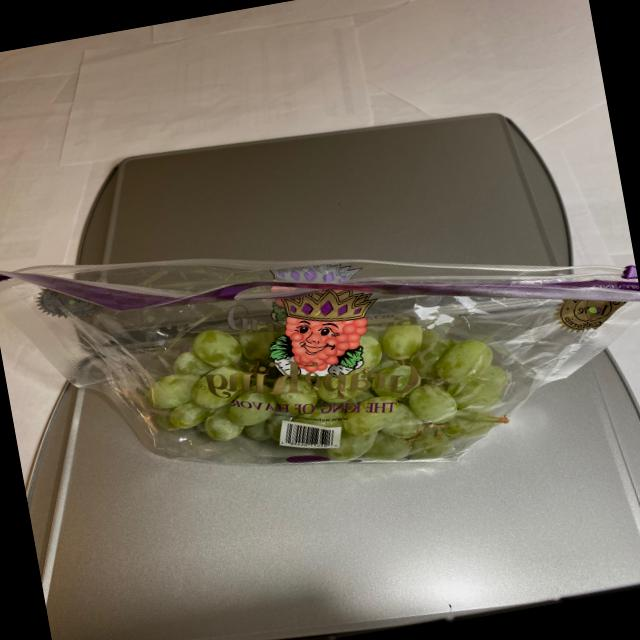grapes: (99, 270, 532, 514)
